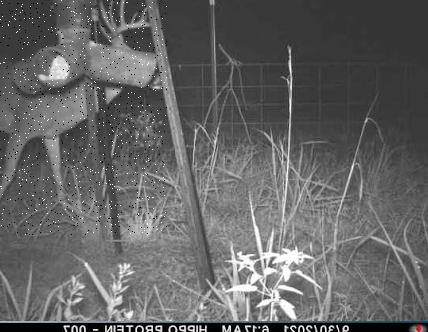Deer: (0, 0, 167, 235)
